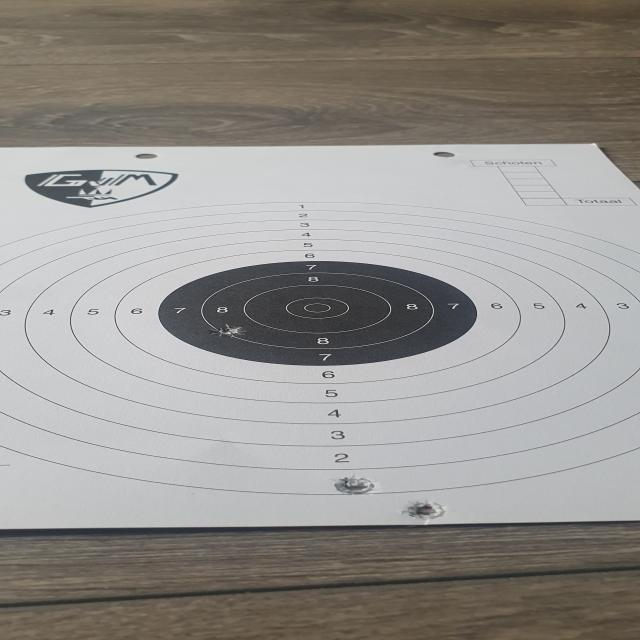0: (396, 499, 453, 523)
1: (329, 475, 378, 495)
8: (208, 325, 244, 336)
Target: (0, 199, 640, 498)
black_contour: (160, 260, 478, 366)
